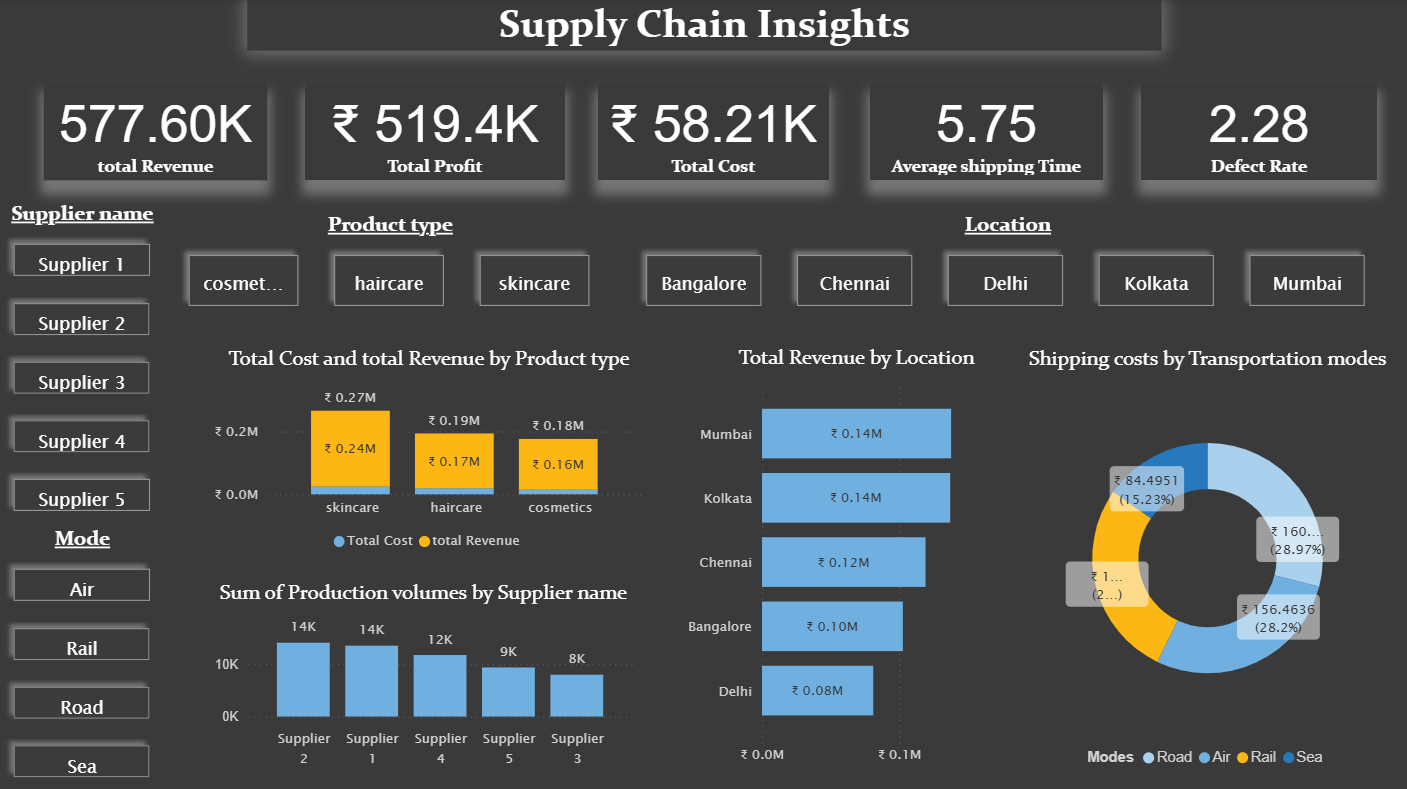

The dashboard page shown, as its layout file describes it:
{"tool":"powerbi","page":{"name":"Page 3","canvas":[1280,720],"ordinal":0},"visuals":[{"type":"advancedSlicerVisual","fields":{"Values":["supply_chain_data.Product type"]},"box":[157.7,192,397.4,102.7],"z":1000},{"type":"advancedSlicerVisual","title":"Supplier name","fields":{"Values":["supply_chain_data.Supplier name"]},"box":[0,181,157.7,302],"z":2000},{"type":"advancedSlicerVisual","title":"Mode","fields":{"Values":["supply_chain_data.Transportation modes"]},"box":[0,474.5,157.7,245.8],"z":3000},{"type":"advancedSlicerVisual","title":"Location","fields":{"Values":["supply_chain_data.Location"]},"box":[569.8,192,686,102.7],"z":4000},{"type":"barChart","title":"Total Revenue by Location","fields":{"Category":["supply_chain_data.Location"],"Y":["supply_chain_data.total Revenue"]},"box":[618.6,311.6,316.3,391.9],"z":5000},{"type":"donutChart","title":"Shipping costs by Transportation modes","fields":{"Category":["supply_chain_data.Transportation modes"],"Y":["Sum(supply_chain_data.Shipping costs)"]},"box":[925.7,311.8,336.3,391.3],"z":6000},{"type":"columnChart","fields":{"Category":["supply_chain_data.Supplier name"],"Y":["Sum(supply_chain_data.Production volumes)"]},"box":[193,523.3,387.2,180.2],"z":7000},{"type":"columnChart","fields":{"Category":["supply_chain_data.Product type"],"Y":["supply_chain_data.Total Cost","supply_chain_data.total Revenue"]},"box":[193.2,311.8,397.4,195.7],"z":8000},{"type":"card","fields":{"Values":["supply_chain_data.total Revenue"]},"box":[44,75.8,201.8,88],"z":9000},{"type":"card","fields":{"Values":["supply_chain_data.Total Profit"]},"box":[280,75.8,234.8,88],"z":10000},{"type":"card","fields":{"Values":["supply_chain_data.Average shipping Time"]},"box":[788.7,75.8,210.3,88],"z":11000},{"type":"card","fields":{"Values":["supply_chain_data.Defect Rate"]},"box":[1033.3,75.8,212.8,88],"z":12000},{"type":"card","fields":{"Values":["supply_chain_data.Total Cost"]},"box":[542.9,75.8,209.1,88],"z":13000},{"type":"shape","title":"Supply Chain Insights","box":[227.4,0,824.2,46.5],"z":13500}]}

Visuals, with their boxes in screenshot pixels (x1, y1, x2, y2), scaled from the page's 1280x720 canvas onto the 1407x789 screenshot:
advancedSlicerVisual - supply_chain_data.Product type: l=173, t=210, r=610, b=323
"Supplier name" advancedSlicerVisual: l=0, t=198, r=173, b=529
"Mode" advancedSlicerVisual: l=0, t=520, r=173, b=788
"Location" advancedSlicerVisual: l=626, t=210, r=1380, b=323
"Total Revenue by Location" barChart: l=680, t=341, r=1028, b=771
"Shipping costs by Transportation modes" donutChart: l=1018, t=342, r=1387, b=770
columnChart - supply_chain_data.Supplier name x Sum(supply_chain_data.Production volumes): l=212, t=573, r=638, b=771
columnChart - supply_chain_data.Product type x supply_chain_data.Total Cost: l=212, t=342, r=649, b=556
card - supply_chain_data.total Revenue: l=48, t=83, r=270, b=179
card - supply_chain_data.Total Profit: l=308, t=83, r=566, b=179
card - supply_chain_data.Average shipping Time: l=867, t=83, r=1098, b=179
card - supply_chain_data.Defect Rate: l=1136, t=83, r=1370, b=179
card - supply_chain_data.Total Cost: l=597, t=83, r=827, b=179
"Supply Chain Insights" shape: l=250, t=0, r=1156, b=51
